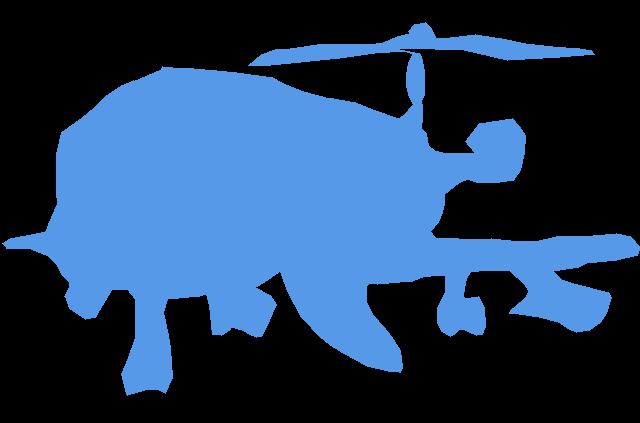Airplane: (2, 22, 640, 396)
